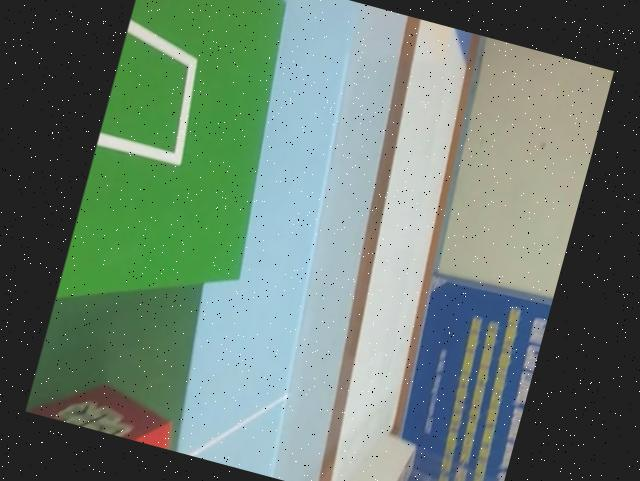R2 Real: (25, 364, 186, 450)
